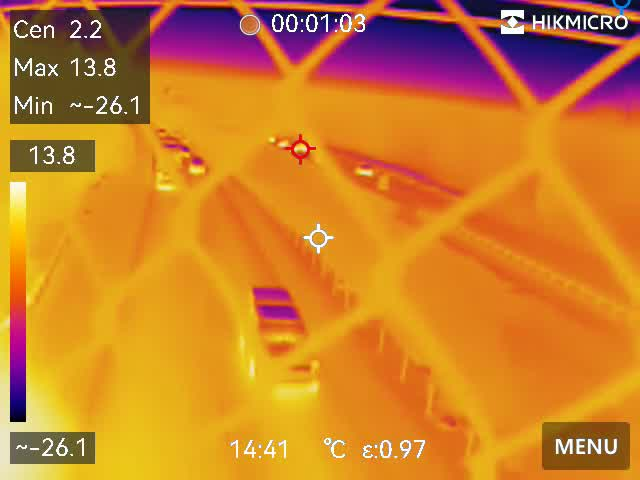vehicle: (240, 281, 327, 406), (185, 157, 205, 175), (176, 143, 192, 158)
